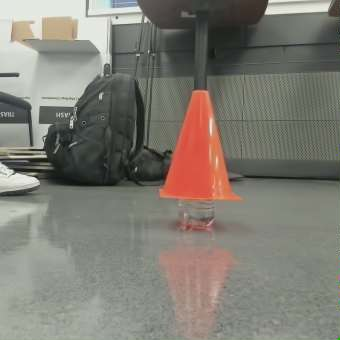Cone: (161, 88, 235, 195)
